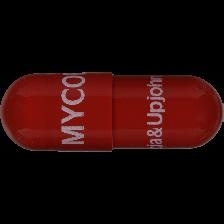54868-2841: (0, 0, 224, 224)
